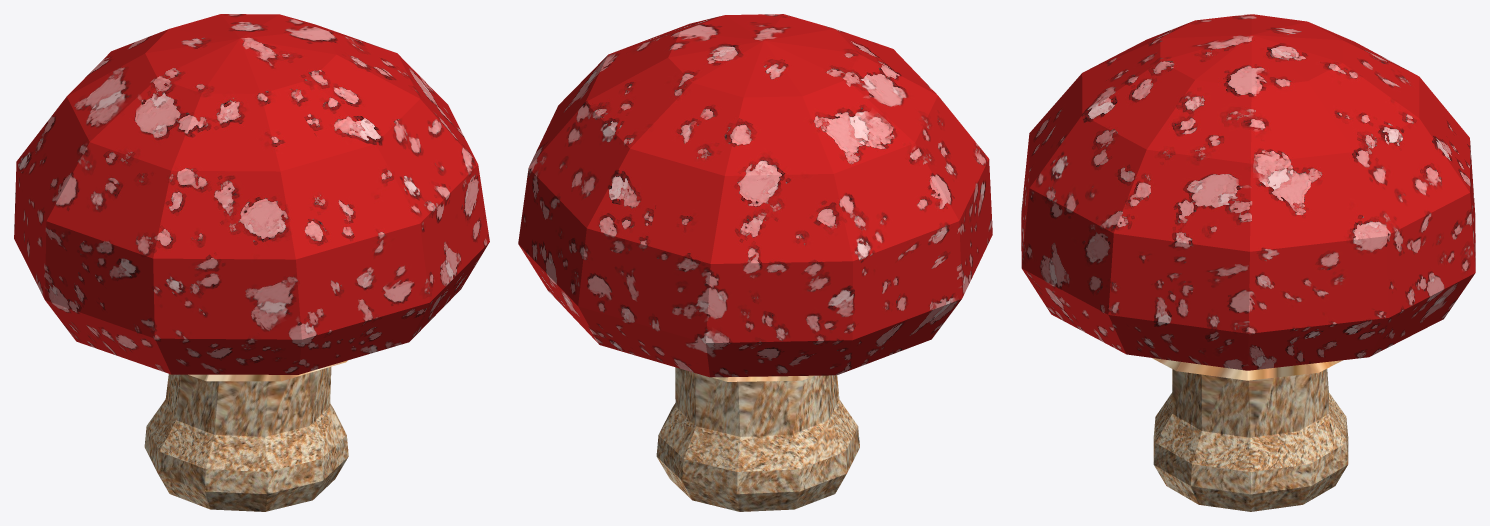
Rendered from shroom3.obj.
3 renders of one model, left to right at view 1: azimuth 30°, elevation 25°; view 2: azimuth 150°, elevation 25°; view 3: azimuth 270°, elevation 25°, orthographic.
Parts seen in each view (by area): view 1: Sphere.001, Sphere.003; view 2: Sphere.001, Sphere.003; view 3: Sphere.001, Sphere.003.
Part boxes in pixels (x1=…): Sphere.001: x1=14, y1=14, x2=489, y2=374; Sphere.003: x1=144, y1=360, x2=348, y2=511; Sphere.001: x1=518, y1=14, x2=992, y2=377; Sphere.003: x1=656, y1=367, x2=859, y2=511; Sphere.001: x1=1021, y1=14, x2=1475, y2=370; Sphere.003: x1=1152, y1=358, x2=1348, y2=511.
Bounding box in the file's own units: 2.13 × 2.15 × 2.03.
